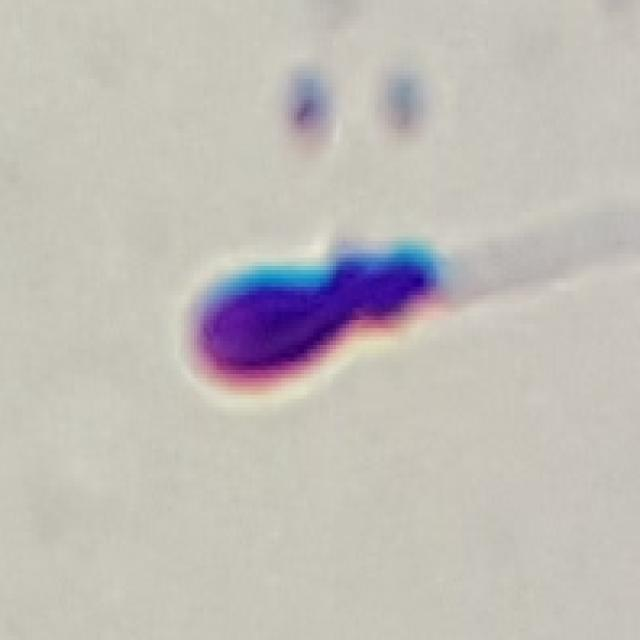abnormal sperm: (182, 231, 529, 397)
